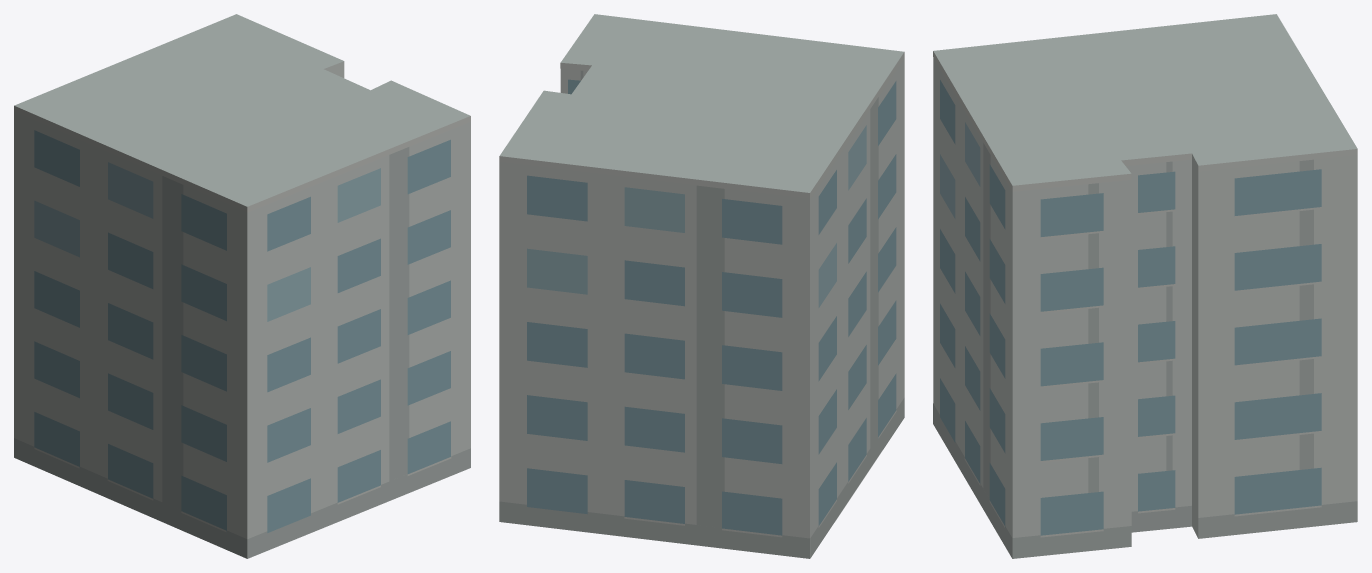
Rendered from survey-upis-32687773.glb.
The picture shows the model from 3 angles, left to right: view 1: azimuth 30°, elevation 25°; view 2: azimuth 150°, elevation 25°; view 3: azimuth 270°, elevation 25°; orthographic projection. The views are drawn at different scales.
Parts seen in each view (by area): view 1: survey-upis-32687773.tmp; view 2: survey-upis-32687773.tmp; view 3: survey-upis-32687773.tmp.
Boxes of the visible parts, x1,y1,x2,y2 form: survey-upis-32687773.tmp: (14, 14, 470, 558); survey-upis-32687773.tmp: (499, 14, 904, 558); survey-upis-32687773.tmp: (933, 14, 1357, 558).
Size of the model in its own units: 14.62 by 14.8 by 15.28.
